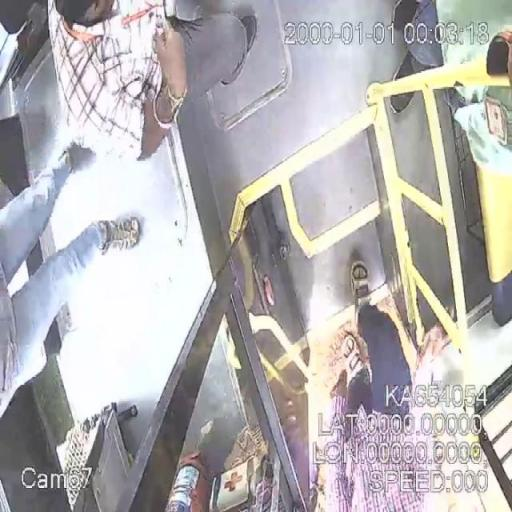persona: (0, 140, 142, 414), (45, 0, 260, 166), (312, 259, 446, 508)
